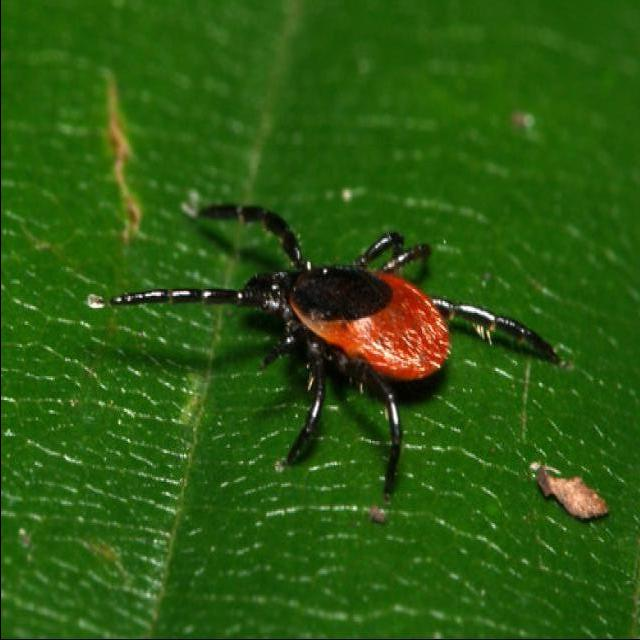Ixodes Ricinus-F: (88, 200, 559, 505)
